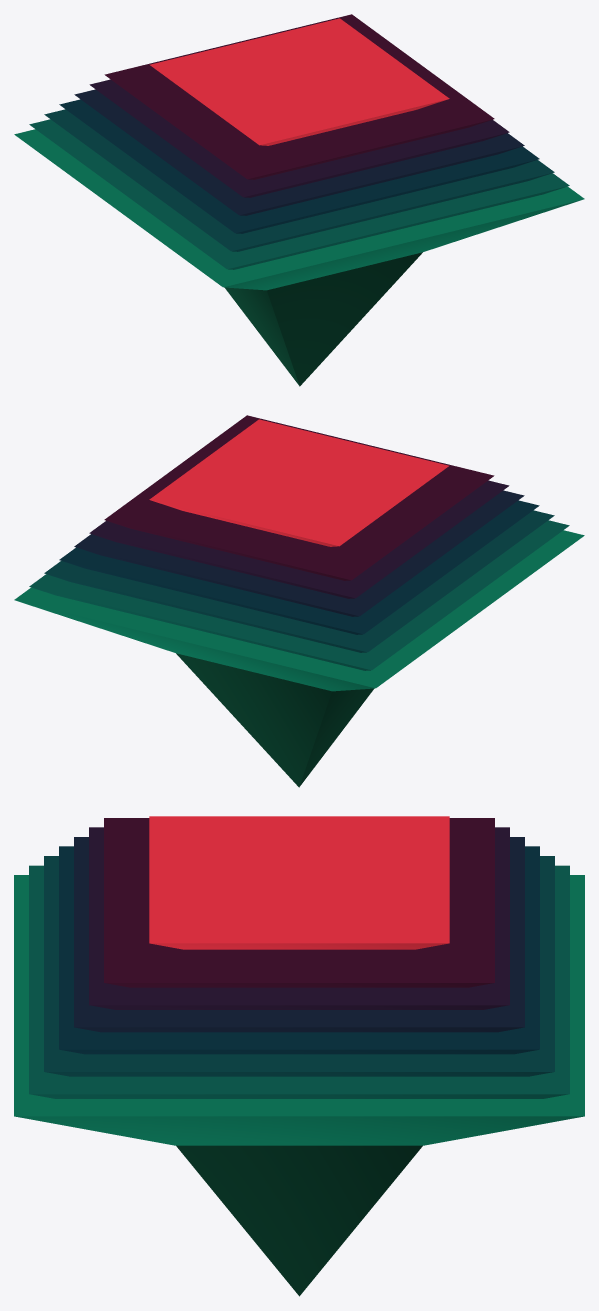
Rendered from exogon_uvmapped-1.0.fbx.
3 renders of one model, top to bottom at view 1: azimuth 30°, elevation 25°; view 2: azimuth 150°, elevation 25°; view 3: azimuth 270°, elevation 25°, orthographic. The views are drawn at different scales.
Visible parts, largest first — view 1: Cube; view 2: Cube; view 3: Cube.
Boxes of the visible parts, x1=… form: Cube: x1=14, y1=14, x2=584, y2=386; Cube: x1=14, y1=415, x2=584, y2=787; Cube: x1=14, y1=816, x2=584, y2=1296.
Size of the model in its own units: 189 by 152 by 189.
